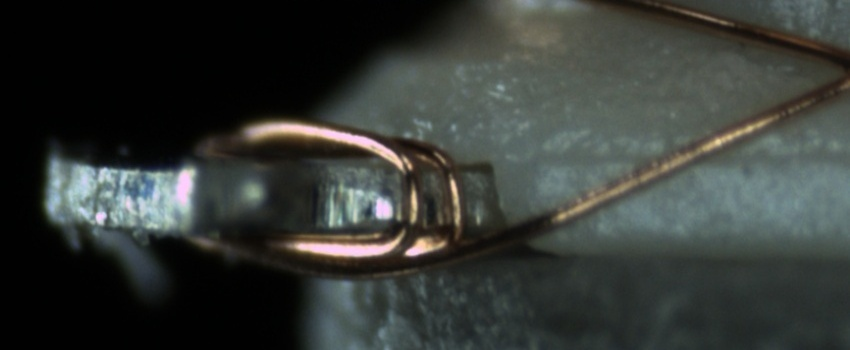DL: (535, 121, 841, 188)
TE: (209, 100, 461, 269)
